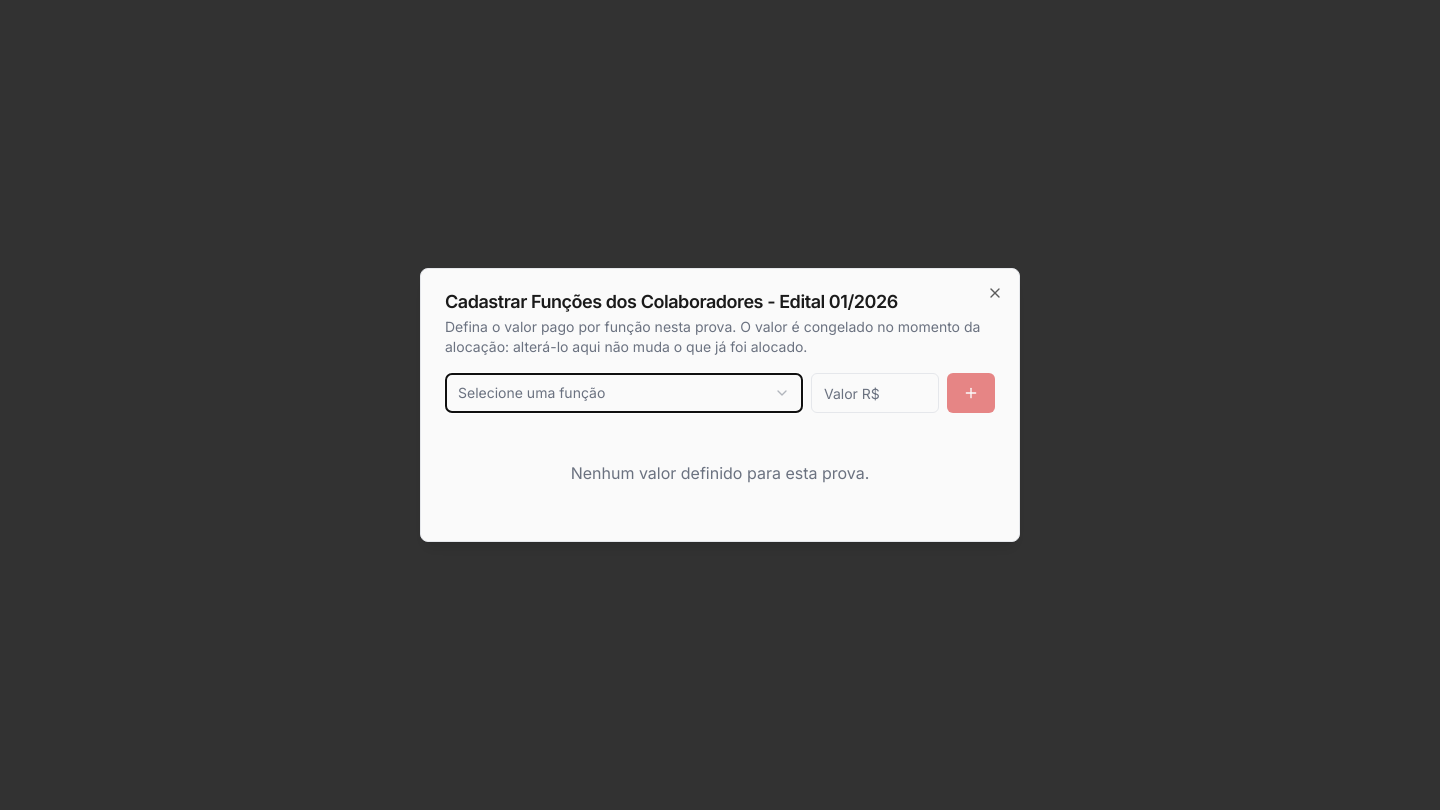
ValoresFuncaoProvaDialog (interação) › adicionar valor › limpa o formulário depois de mandar
Click the dropdown at (532,392), box x1=445 y1=373 x2=803 y2=413
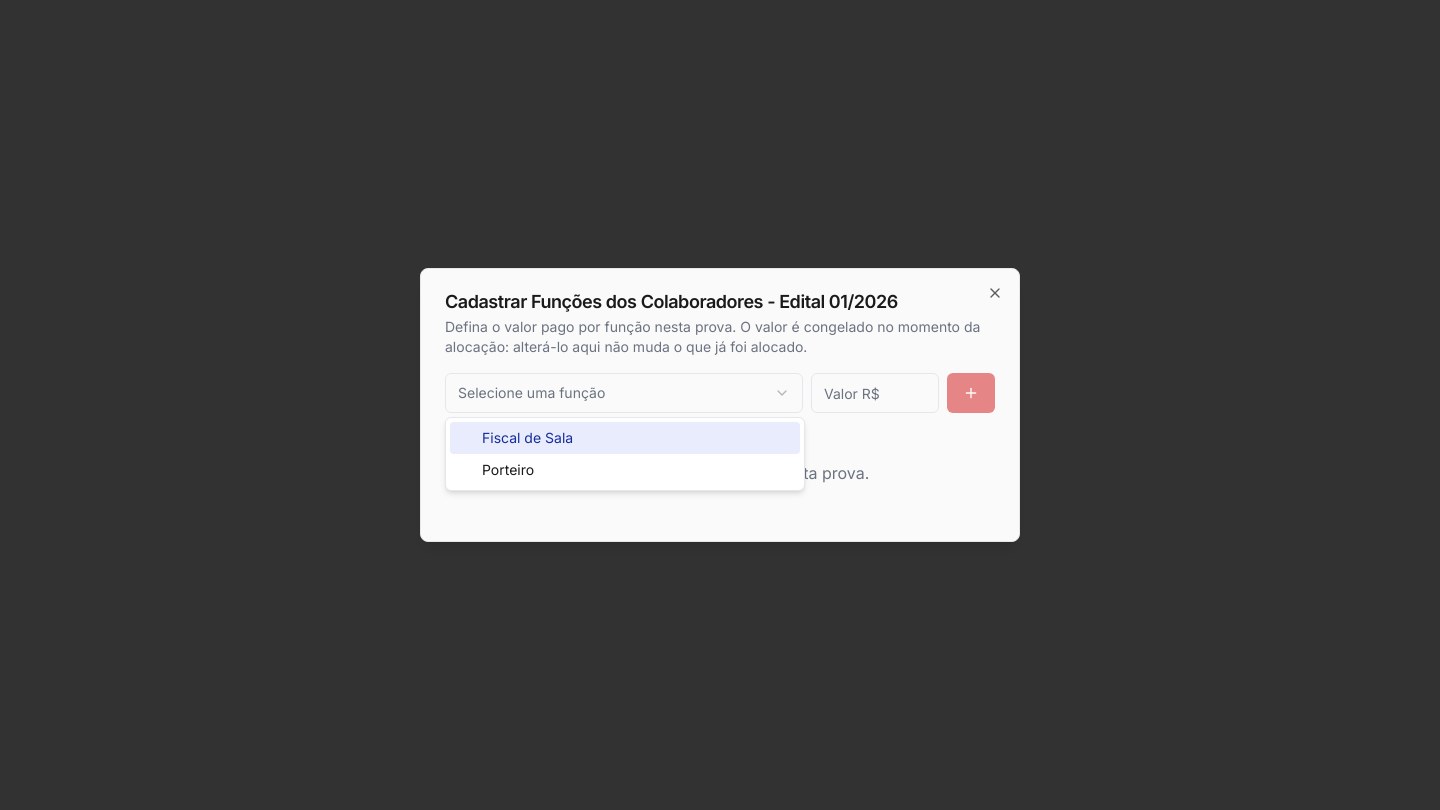
Click the option "Fiscal de Sala" at (528,438), box x1=450 y1=422 x2=800 y2=454
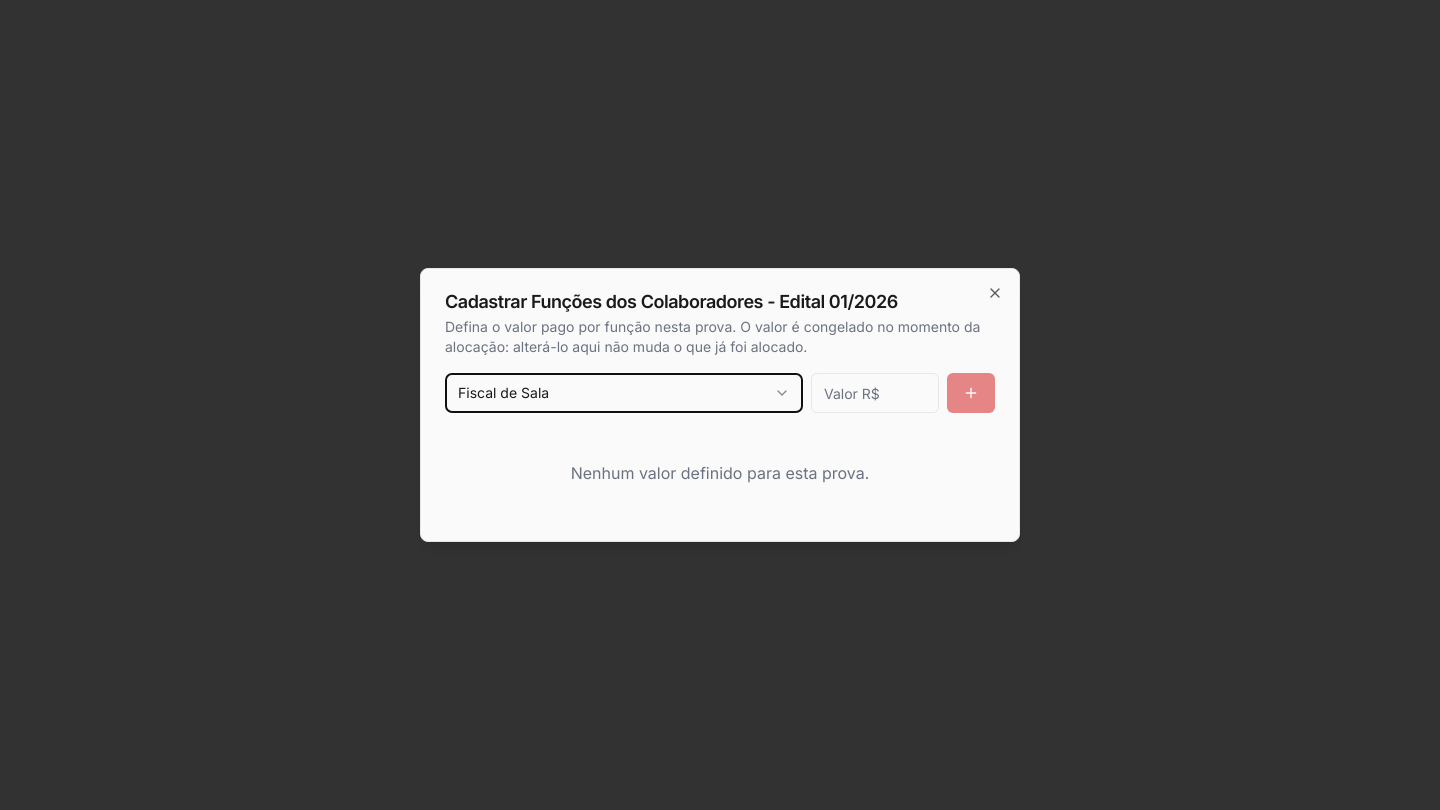
Type "150" into the number field with placeholder "Valor R$" at (875,393), box x1=811 y1=373 x2=939 y2=413
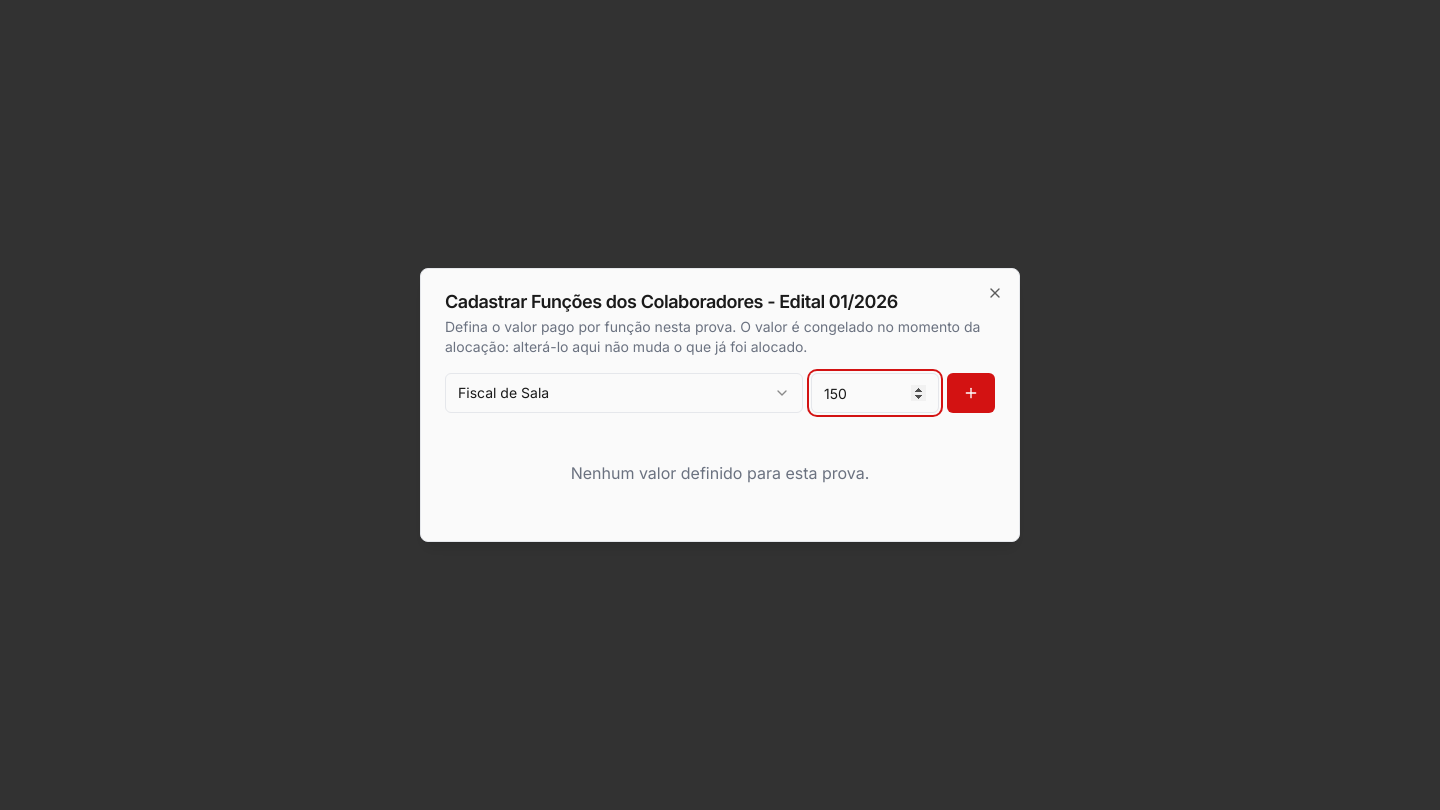
Click the 2nd button at (971,393), box x1=947 y1=373 x2=995 y2=413
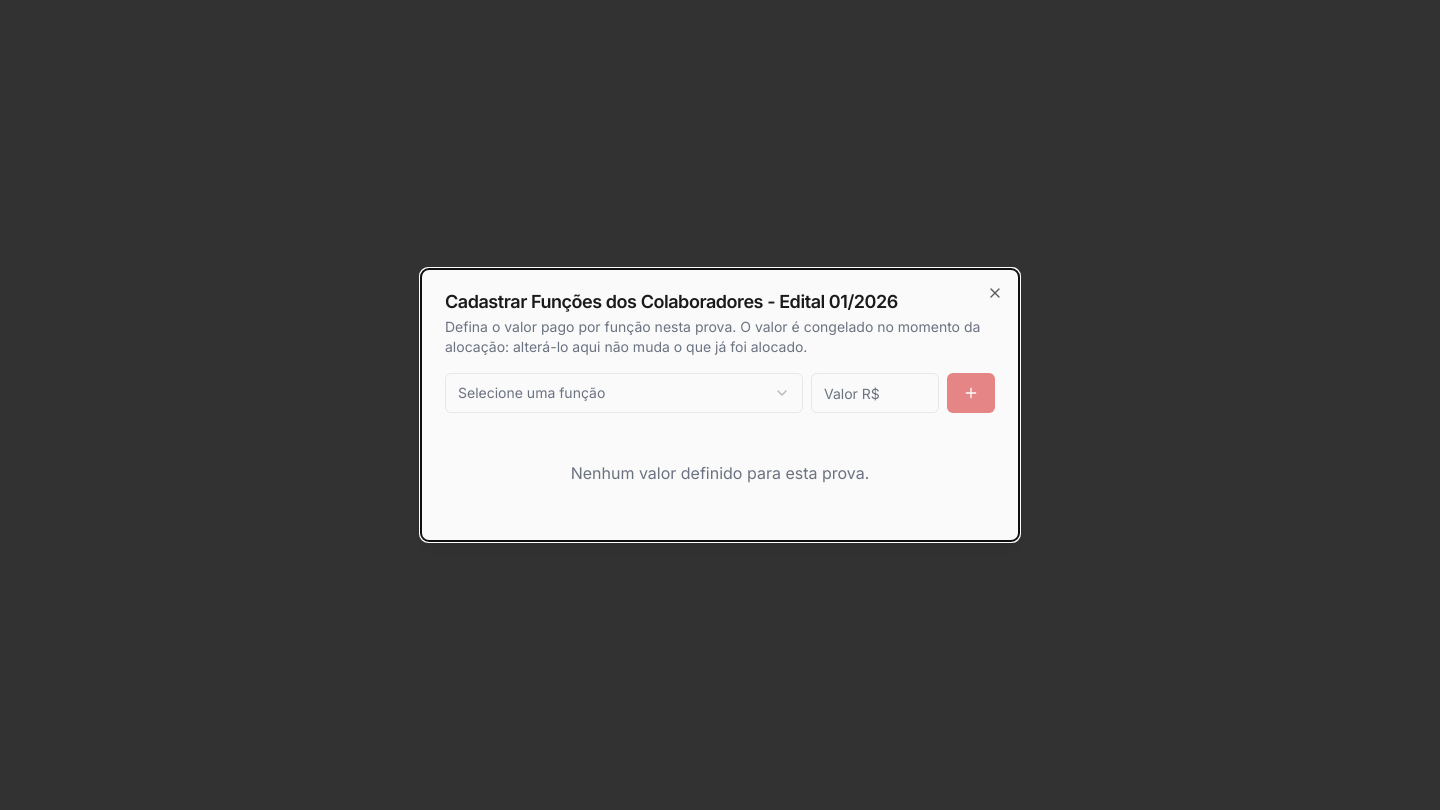
Result: the number field with placeholder "Valor R$" is not empty at x1=811 y1=373 x2=939 y2=413
